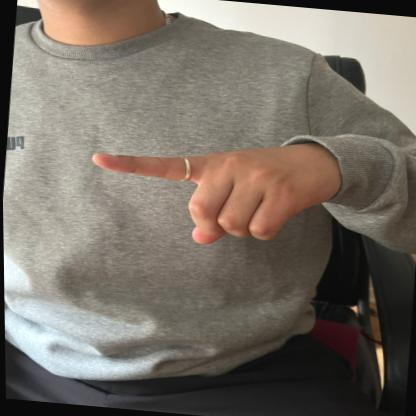S: (81, 112, 346, 261)
